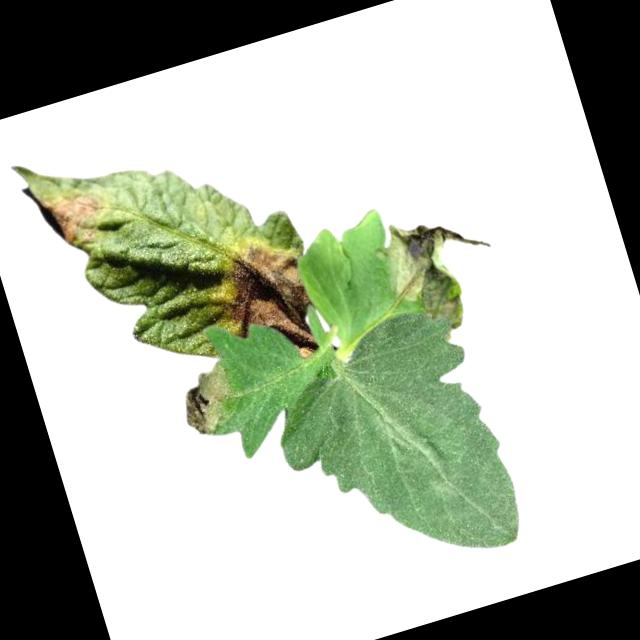Late_blight: (374, 199, 518, 353), (209, 229, 332, 375), (172, 359, 245, 441), (44, 180, 112, 249)
healthy: (255, 298, 528, 598)
